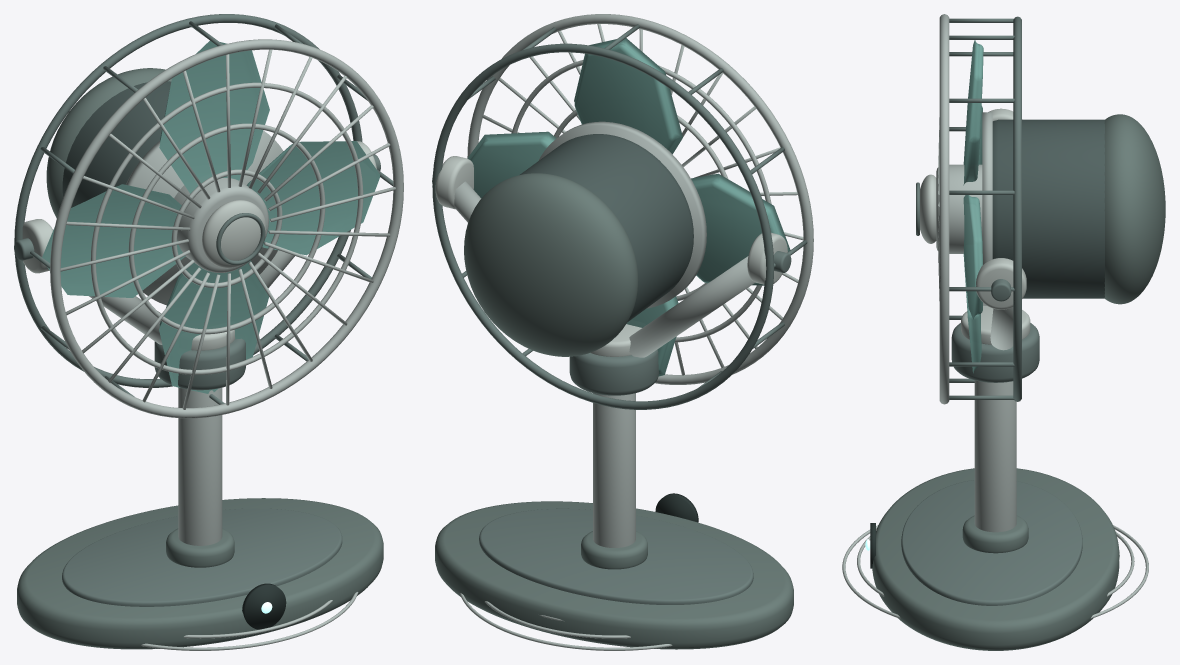
File: wind-nest-fan.glb
3 renders of one model, left to right at view 1: azimuth 30°, elevation 25°; view 2: azimuth 150°, elevation 25°; view 3: azimuth 270°, elevation 25°, orthographic. The views are drawn at different scales.
Parts seen in each view (by area): view 1: Base, Base inset, Front cage ring 04, Blade 04, Blade 03, Blade 01, Rear cage rim, Stem outer, Blade 02, Rear motor, Front cage ring 03, Rear motor cap (+23 smaller); view 2: Rear motor cap, Base, Base inset, Rear motor, Rear cage rim, Front cage ring 04, Blade 04, Stem outer, Blade 03, Motor trim, Yoke left, Blade 01 (+12 smaller); view 3: Base, Rear motor, Base inset, Rear motor cap, Stem outer, Front cage ring 04, Rear cage rim, Yaw bearing, Rotor hub, Blade 04, Blade 01, Stem collar lower (+8 smaller).
Boxes of the visible parts, x1,y1,x2,y2 form: Base: [17, 498, 383, 649]; Base inset: [62, 508, 342, 606]; Front cage ring 04: [50, 39, 403, 418]; Blade 04: [159, 41, 269, 193]; Blade 03: [42, 184, 185, 297]; Blade 01: [246, 141, 379, 255]; Rear cage rim: [14, 14, 362, 387]; Stem outer: [178, 387, 222, 545]; Blade 02: [159, 260, 268, 393]; Rear motor: [62, 81, 171, 207]; Front cage ring 03: [90, 82, 363, 374]; Rear motor cap: [46, 68, 171, 218]; Rear motor cap: [464, 173, 638, 356]; Base: [435, 501, 793, 649]; Base inset: [479, 508, 753, 604]; Rear motor: [520, 134, 693, 322]; Rear cage rim: [432, 43, 774, 409]; Front cage ring 04: [467, 14, 813, 384]; Blade 04: [574, 38, 682, 154]; Stem outer: [593, 393, 635, 547]; Blade 03: [691, 173, 790, 285]; Motor trim: [538, 121, 706, 308]; Yoke left: [629, 256, 755, 357]; Blade 01: [467, 131, 556, 198]; Base: [872, 468, 1119, 650]; Rear motor: [992, 119, 1104, 298]; Base inset: [901, 480, 1082, 605]; Rear motor cap: [1104, 114, 1165, 304]; Stem outer: [974, 380, 1016, 532]; Front cage ring 04: [939, 14, 949, 404]; Rear cage rim: [1013, 16, 1021, 401]; Yaw bearing: [951, 323, 1039, 382]; Rotor hub: [936, 164, 982, 253]; Blade 04: [963, 40, 983, 185]; Blade 01: [963, 195, 982, 319]; Stem collar lower: [962, 515, 1028, 553].
Size of the model in its own units: 2.17 by 3.27 by 1.77.
